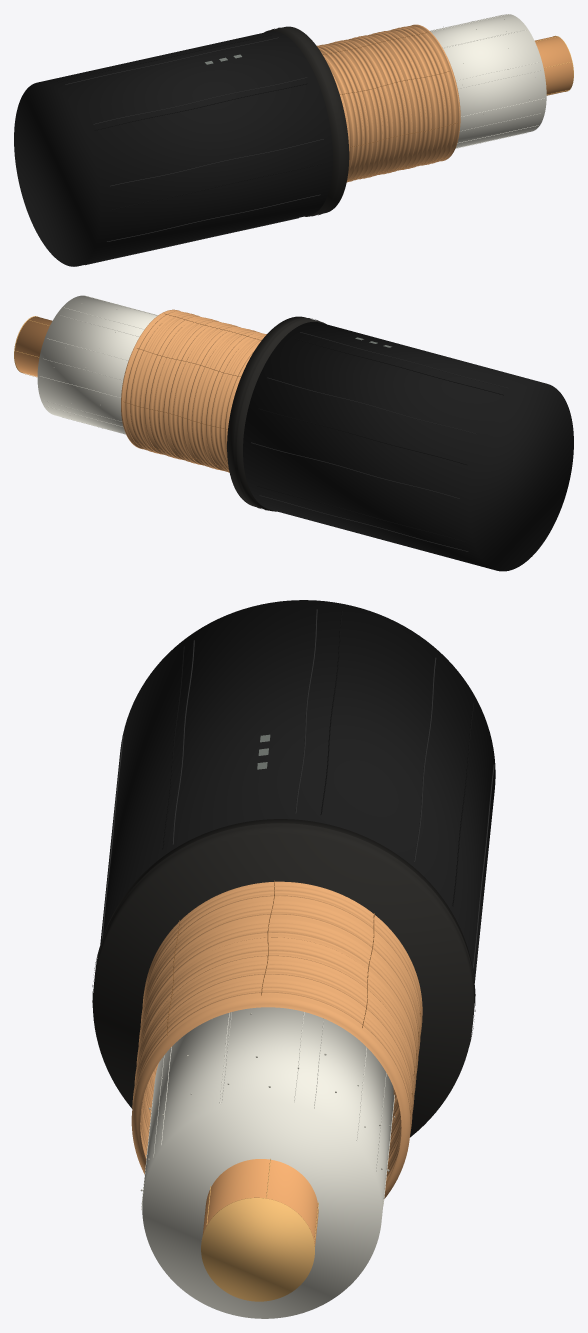
Rendered from rf-fsj4-macro.glb.
The picture shows the model from 3 angles, top to bottom: view 1: azimuth 30°, elevation 25°; view 2: azimuth 150°, elevation 25°; view 3: azimuth 270°, elevation 25°; orthographic projection. The views are drawn at different scales.
Visible parts, largest first — view 1: macro hardline jacket body, annular corrugated solid shield, macro foam dielectric exposed core, hardline jacket cut wall, polished solid center conductor, rounded jacket cut lip; view 2: macro hardline jacket body, annular corrugated solid shield, macro foam dielectric exposed core, hardline jacket cut wall, polished solid center conductor, rounded jacket cut lip; view 3: macro hardline jacket body, macro foam dielectric exposed core, annular corrugated solid shield, hardline jacket cut wall, polished conductor cut face glow, polished solid center conductor, rounded jacket cut lip.
Boxes of the visible parts, box(x1,y1,x2,y2) form: macro hardline jacket body: box(14, 31, 332, 266); annular corrugated solid shield: box(317, 24, 460, 182); macro foam dielectric exposed core: box(430, 14, 546, 148); hardline jacket cut wall: box(264, 26, 349, 216); polished solid center conductor: box(535, 36, 573, 95); rounded jacket cut lip: box(271, 27, 342, 216); macro hardline jacket body: box(243, 322, 573, 571); annular corrugated solid shield: box(121, 309, 266, 472); macro foam dielectric exposed core: box(37, 295, 157, 434); hardline jacket cut wall: box(227, 316, 326, 511); polished solid center conductor: box(14, 316, 52, 376); rounded jacket cut lip: box(233, 318, 319, 510); macro hardline jacket body: box(100, 600, 495, 982); macro foam dielectric exposed core: box(142, 1007, 393, 1318); annular corrugated solid shield: box(131, 881, 422, 1198); hardline jacket cut wall: box(92, 819, 474, 1137); polished conductor cut face glow: box(201, 1197, 314, 1301); polished solid center conductor: box(202, 1159, 318, 1245); rounded jacket cut lip: box(92, 823, 475, 1044).
Size of the model in its own units: 11.67 by 3.91 by 4.11.
